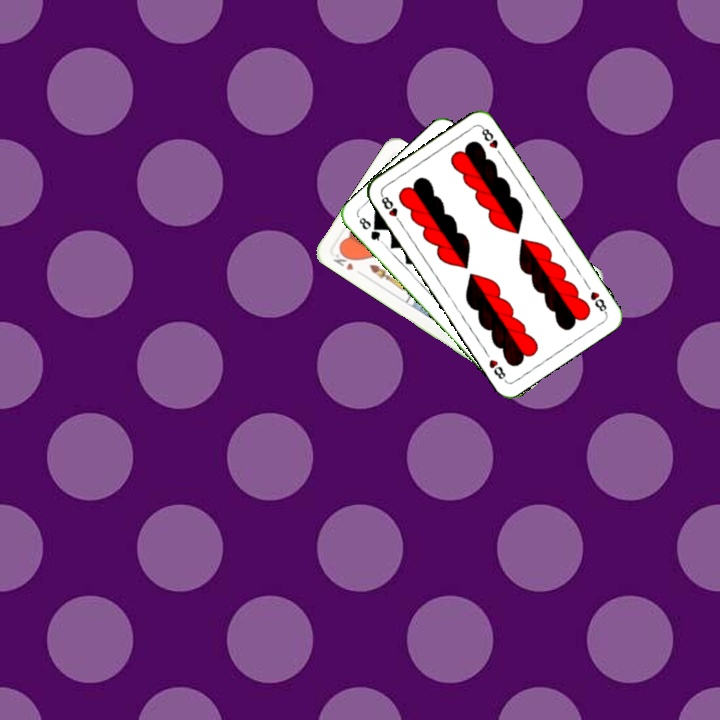G8: (355, 213, 385, 245)
H8: (377, 190, 404, 226), (586, 287, 610, 316)
HK: (329, 247, 357, 273)
